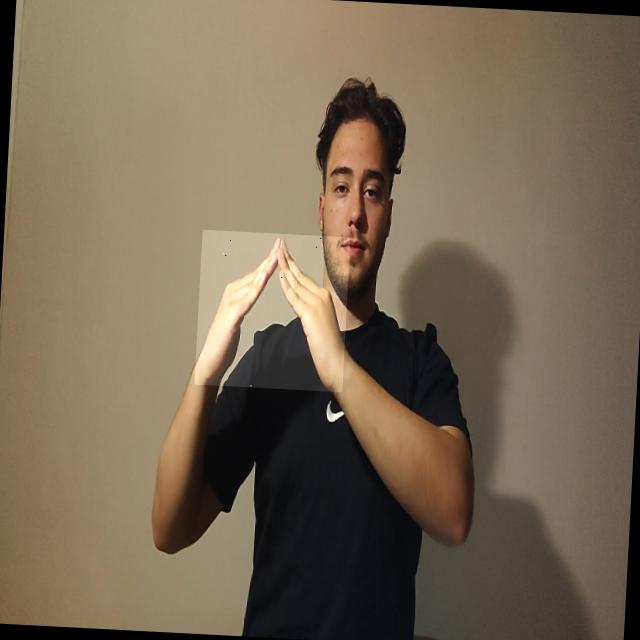house: (194, 230, 350, 392)
